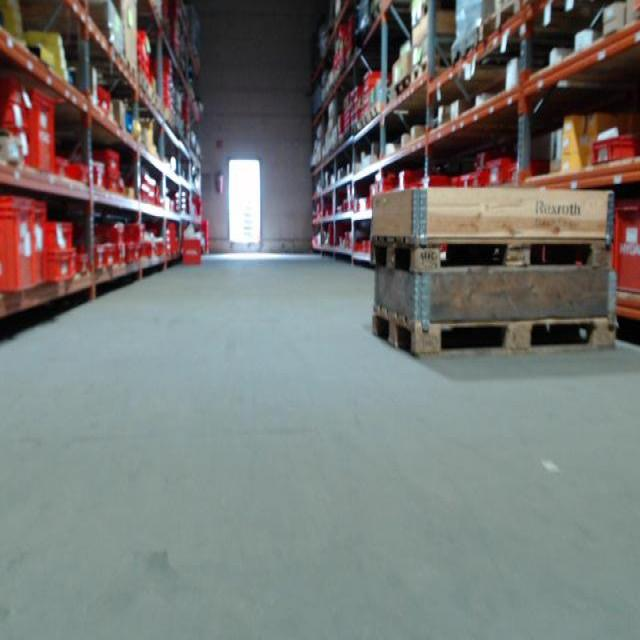pallet: (371, 304, 618, 360), (368, 236, 616, 277), (479, 0, 520, 43), (409, 59, 430, 85), (392, 76, 408, 99), (367, 101, 382, 122)
small_load_carrier: (2, 196, 50, 295), (27, 84, 60, 186), (609, 195, 639, 295), (45, 253, 84, 295), (588, 131, 638, 163), (508, 157, 553, 184), (45, 219, 77, 253), (2, 66, 26, 107), (482, 154, 508, 190), (63, 157, 91, 189), (4, 103, 26, 141), (81, 237, 101, 275), (419, 170, 459, 189), (93, 224, 129, 245), (462, 169, 489, 195), (180, 237, 204, 266), (73, 250, 91, 284), (98, 238, 114, 275), (102, 147, 123, 173), (111, 247, 129, 275), (101, 172, 117, 195)
